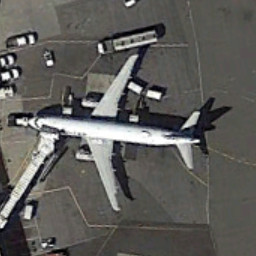Airplane: (24, 43, 208, 216)
